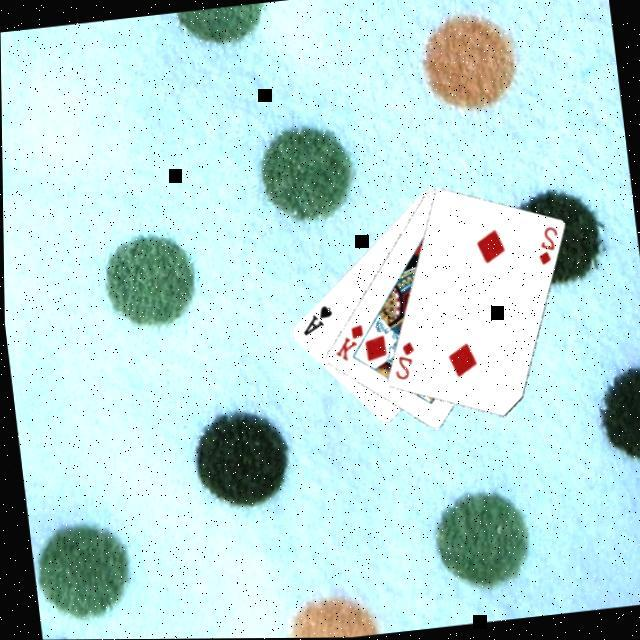2D: (384, 338, 418, 382), (528, 224, 561, 268)
AS: (292, 300, 334, 338)
KD: (324, 320, 366, 364)
